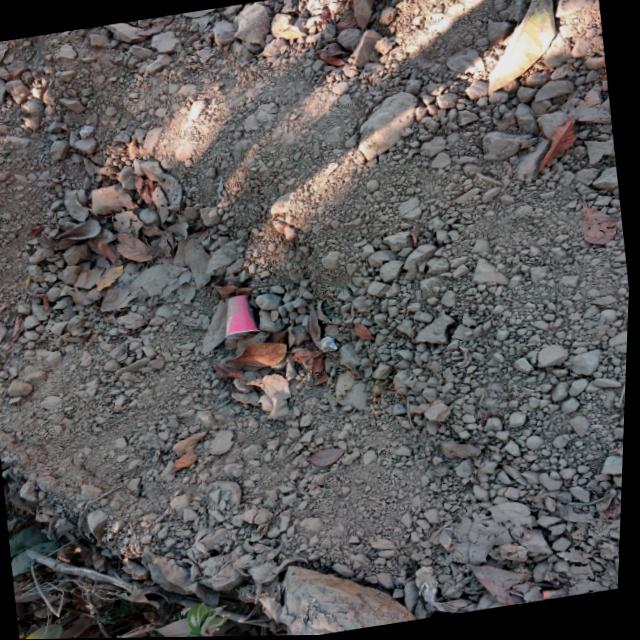Paper: (219, 290, 267, 344), (316, 332, 342, 359)
